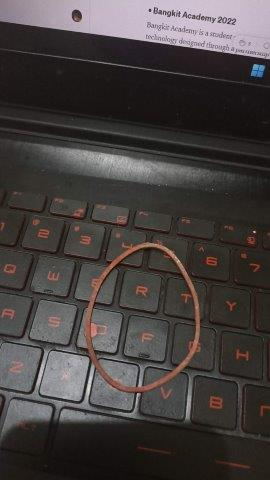karet: (85, 243, 200, 393)
